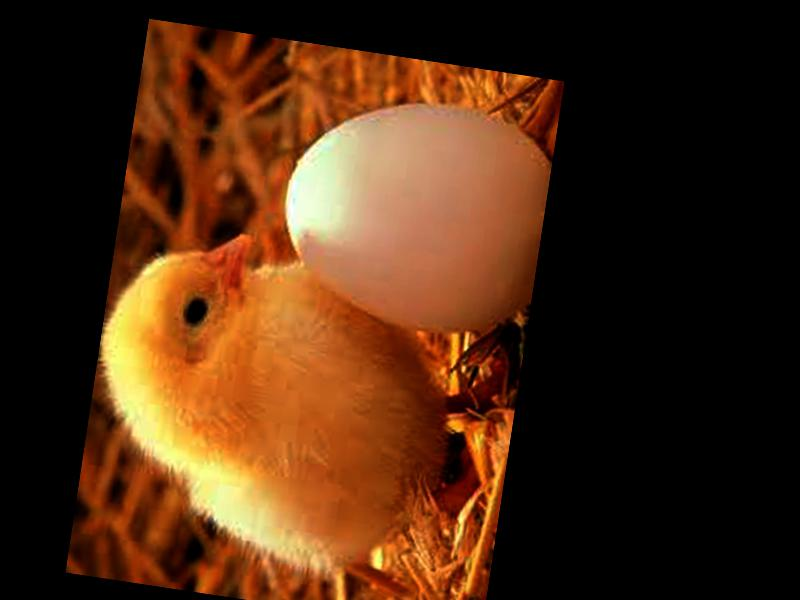Eggs: (267, 83, 558, 347)
